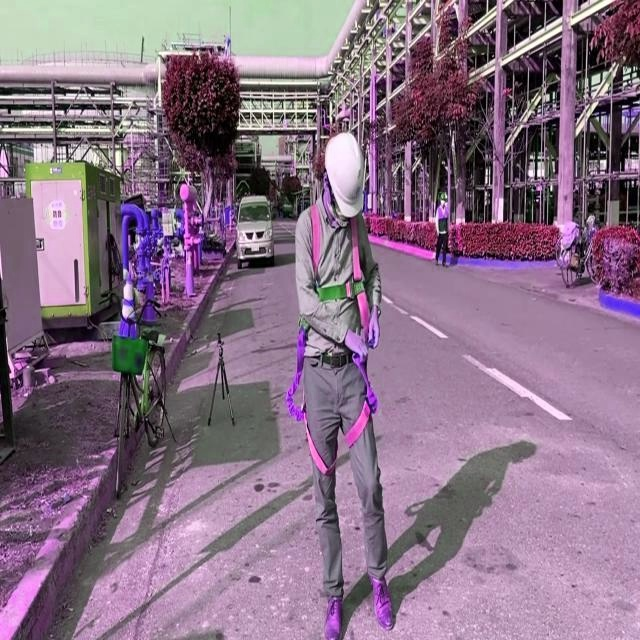safety belt: (270, 190, 395, 465)
